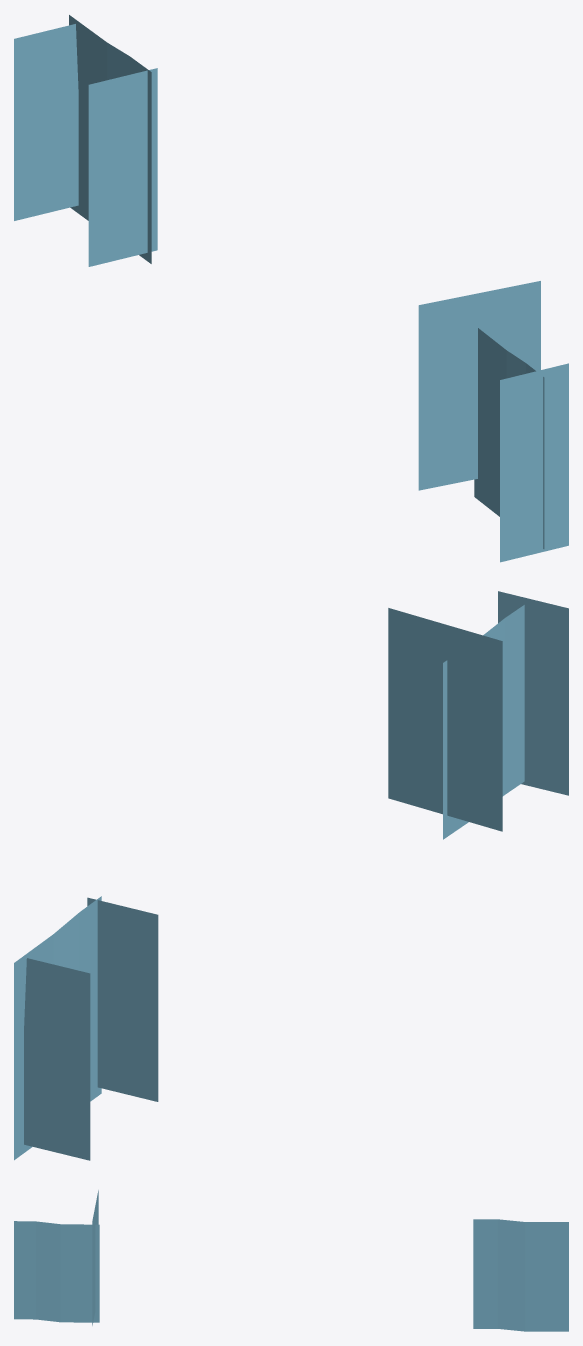
The model's file is backwall.glb.
3 renders of one model, top to bottom at view 1: azimuth 30°, elevation 25°; view 2: azimuth 150°, elevation 25°; view 3: azimuth 270°, elevation 25°, orthographic. The views are drawn at different scales.
Parts seen in each view (by area): view 1: 8445c15ce0804355ad6ad7680cc3cd75.010; view 2: 8445c15ce0804355ad6ad7680cc3cd75.010; view 3: 8445c15ce0804355ad6ad7680cc3cd75.010.
Part boxes in pixels (bbox=[...]): 8445c15ce0804355ad6ad7680cc3cd75.010: bbox=[14, 15, 568, 562]; 8445c15ce0804355ad6ad7680cc3cd75.010: bbox=[14, 591, 568, 1160]; 8445c15ce0804355ad6ad7680cc3cd75.010: bbox=[14, 1190, 568, 1331].
Size of the model in its own units: 2.92 by 5.14 by 20.74.
